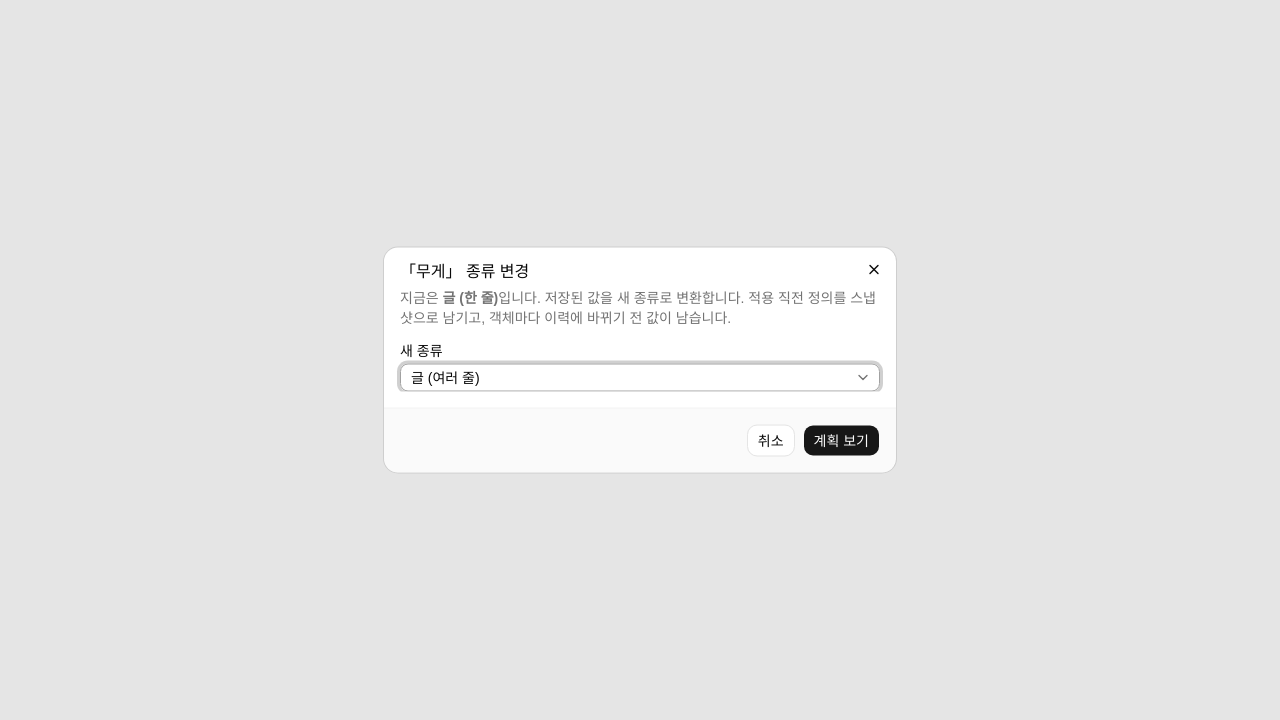
Test: 종류 변경 창 › 계획이 건수 · 변환할 수 없는 값과 견본 · 경고를 보이고, 그대로는 적용하지 않는다
Click the button "계획 보기" at (841, 440), box left=803, top=424, right=880, bottom=456
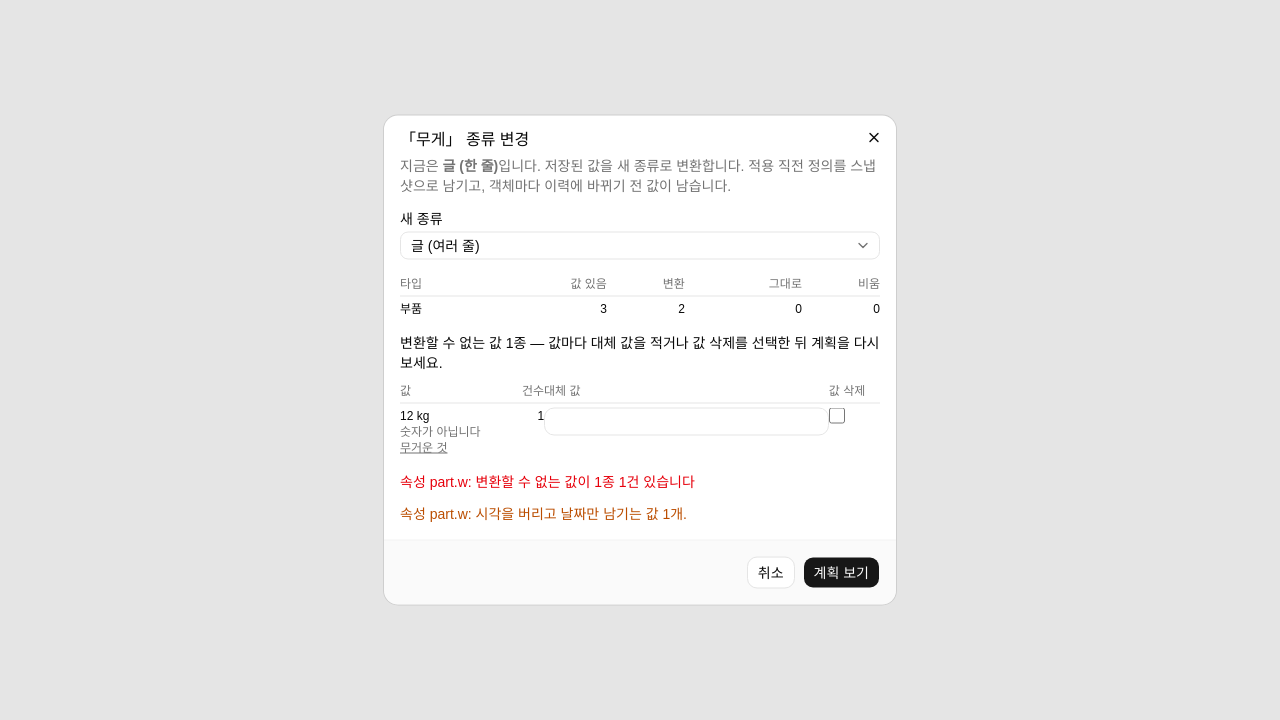
Check: the text "12 kg" is shown, box left=400, top=408, right=429, bottom=422
Check: the list item "속성 part.w: 시각을 버리고 날짜만 남기는 값 1개." is shown, box left=400, top=506, right=687, bottom=522
